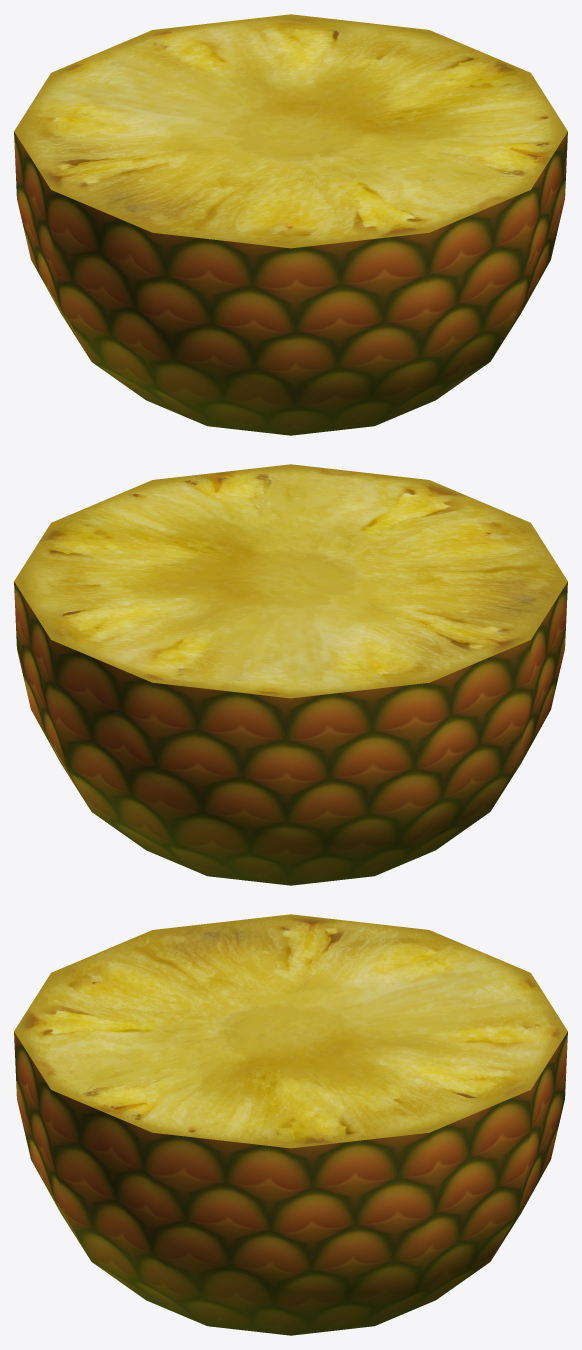
Rendered from Pineapple_Half_Bottom.fbx.
3 views of the same model, one above another, from view 1: azimuth 30°, elevation 25°; view 2: azimuth 150°, elevation 25°; view 3: azimuth 270°, elevation 25° (orthographic).
Visible parts, largest first — view 1: Pineapple_Half_Bottom; view 2: Pineapple_Half_Bottom; view 3: Pineapple_Half_Bottom.
Boxes of the visible parts, left/top/right/bottom form: Pineapple_Half_Bottom: left=14, top=14, right=567, bottom=435; Pineapple_Half_Bottom: left=14, top=464, right=567, bottom=885; Pineapple_Half_Bottom: left=14, top=914, right=567, bottom=1335.
Size of the model in its own units: 1.82 by 1.01 by 1.82.
